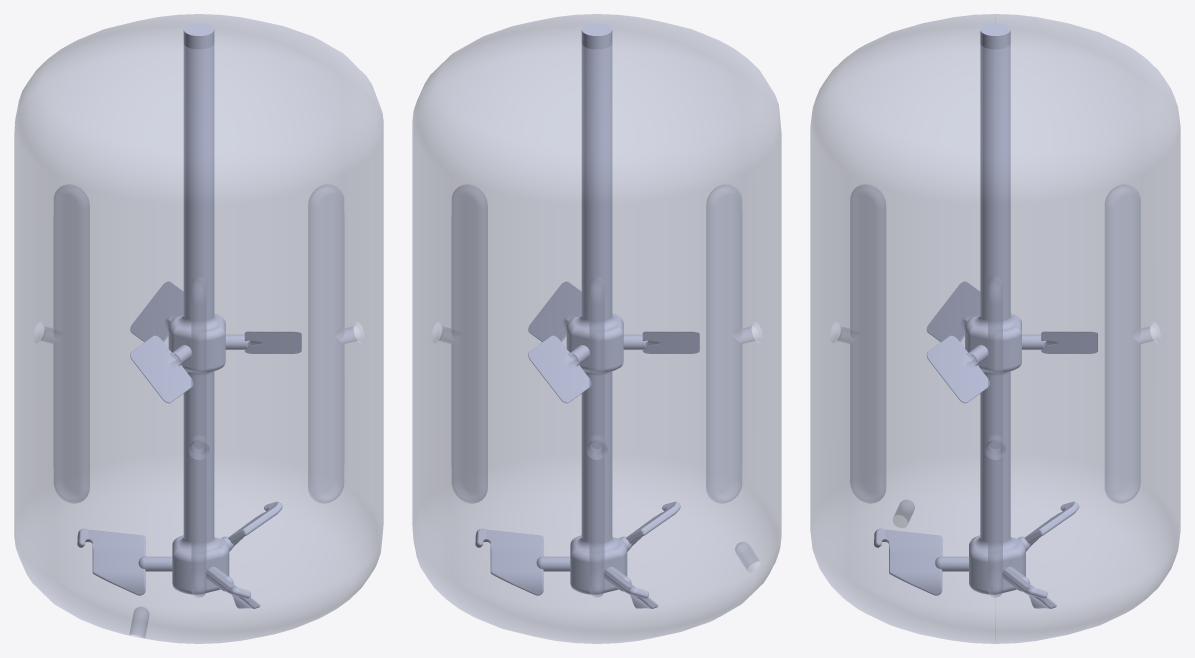
The picture shows the model from 3 angles, left to right: view 1: azimuth 30°, elevation 25°; view 2: azimuth 150°, elevation 25°; view 3: azimuth 270°, elevation 25°; orthographic projection.
Visible parts, largest first — view 1: Cambrex HP_RB01_Tank, Cambrex HP_RB01_Imp; view 2: Cambrex HP_RB01_Tank, Cambrex HP_RB01_Imp; view 3: Cambrex HP_RB01_Tank, Cambrex HP_RB01_Imp.
Boxes of the visible parts, x1,y1,x2,y2 form: Cambrex HP_RB01_Tank: (14, 14, 383, 643); Cambrex HP_RB01_Imp: (77, 23, 301, 608); Cambrex HP_RB01_Tank: (412, 14, 781, 643); Cambrex HP_RB01_Imp: (475, 23, 699, 608); Cambrex HP_RB01_Tank: (810, 14, 1180, 643); Cambrex HP_RB01_Imp: (874, 23, 1097, 608).
Bounding box in the file's own units: 1.22 × 2.13 × 1.22.
